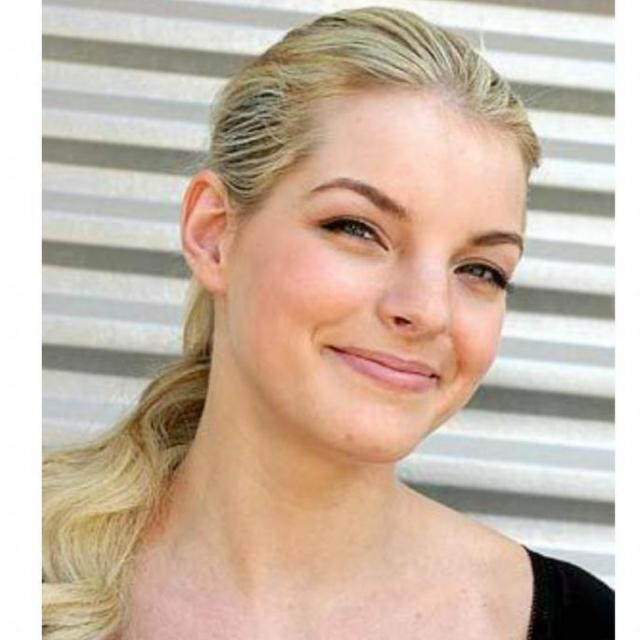live: (225, 58, 532, 472)
